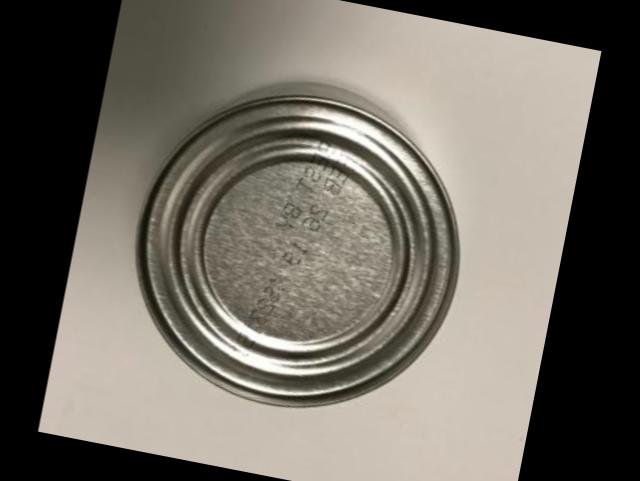metal: (140, 85, 461, 407)
